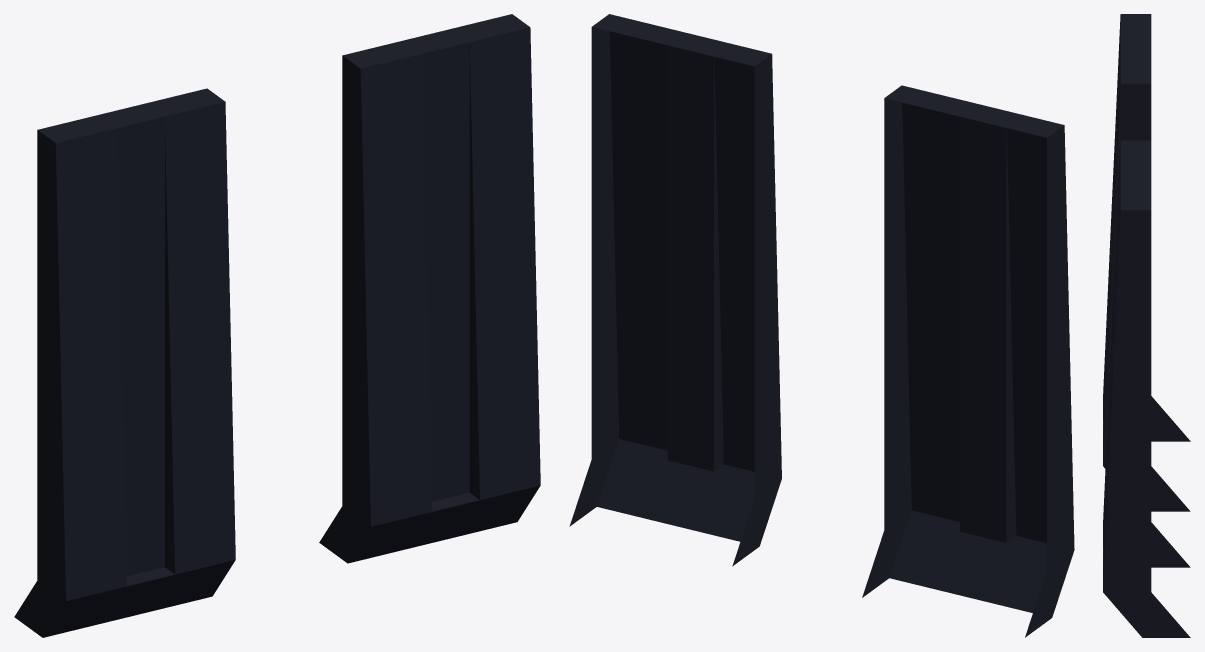
File: Holder_MedKit.fbx
The picture shows the model from 3 angles, left to right: view 1: azimuth 30°, elevation 25°; view 2: azimuth 150°, elevation 25°; view 3: azimuth 270°, elevation 25°; orthographic projection. The views are drawn at different scales.
Visible parts, largest first — view 1: Holder_MedKit; view 2: Holder_MedKit; view 3: Holder_MedKit.
Part boxes in pixels (<box>): Holder_MedKit: <box>14,14,540,637</box>; Holder_MedKit: <box>569,14,1074,637</box>; Holder_MedKit: <box>1103,14,1190,637</box>.
Bounding box in the file's own units: 30.7 × 31.16 × 5.81.
